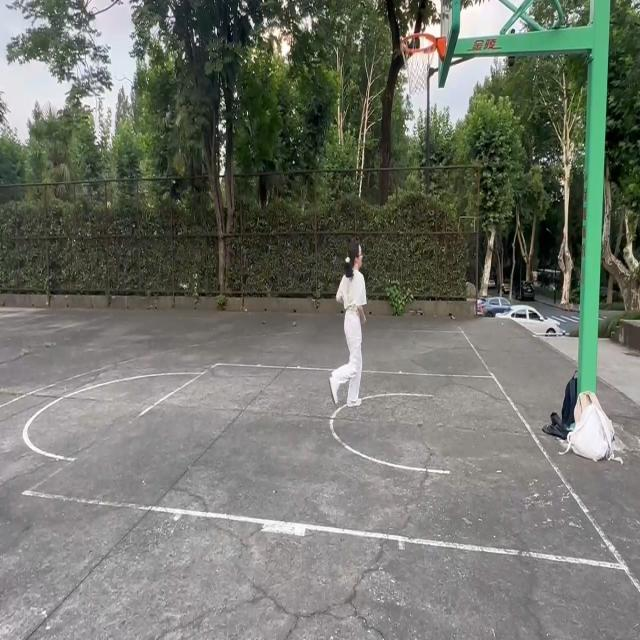basketball: (400, 34, 443, 98)
